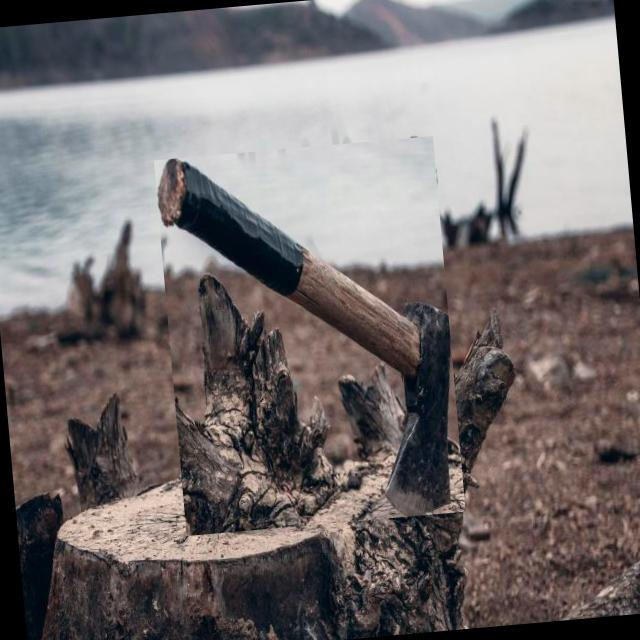Axe: (158, 158, 451, 516)
